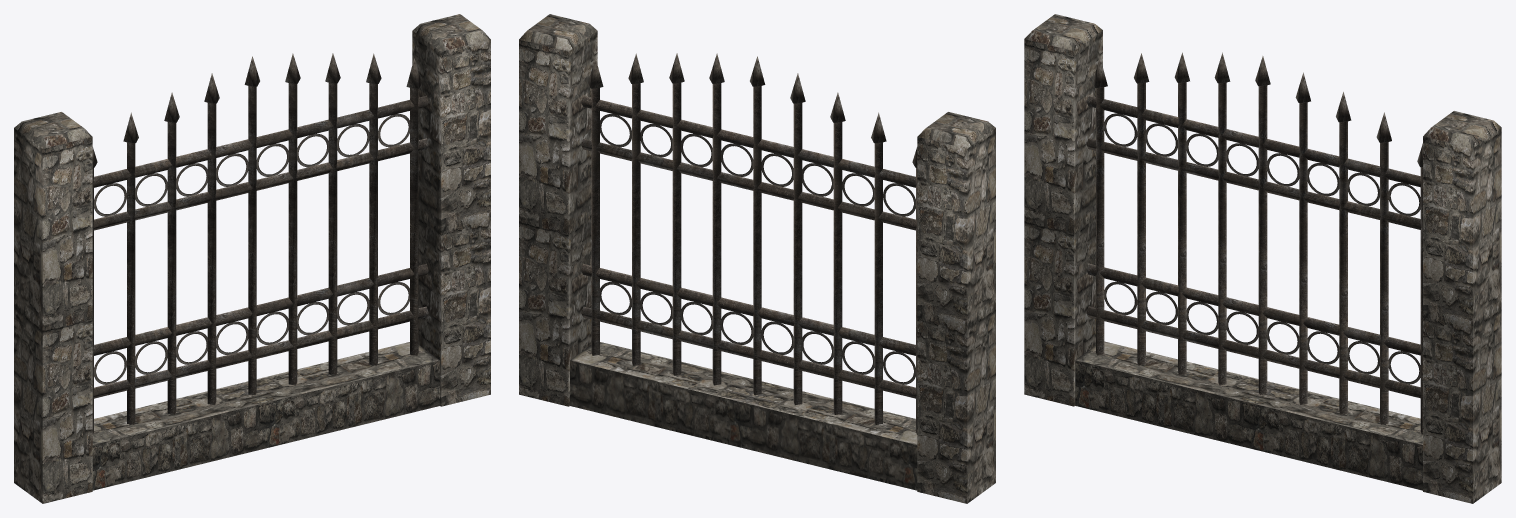
The model's file is HighIronFence.dae.
The picture shows the model from 3 angles, left to right: view 1: azimuth 30°, elevation 25°; view 2: azimuth 150°, elevation 25°; view 3: azimuth 330°, elevation 25°; orthographic projection.
Visible parts, largest first — view 1: HighIronFence; view 2: HighIronFence; view 3: HighIronFence.
Boxes of the visible parts, x1,y1,x2,y2 form: HighIronFence: (14,14,490,503); HighIronFence: (519,14,995,503); HighIronFence: (1024,14,1501,503).
Bounding box in the file's own units: 4 × 3.27 × 0.4444.
1 material, 1 textured.
